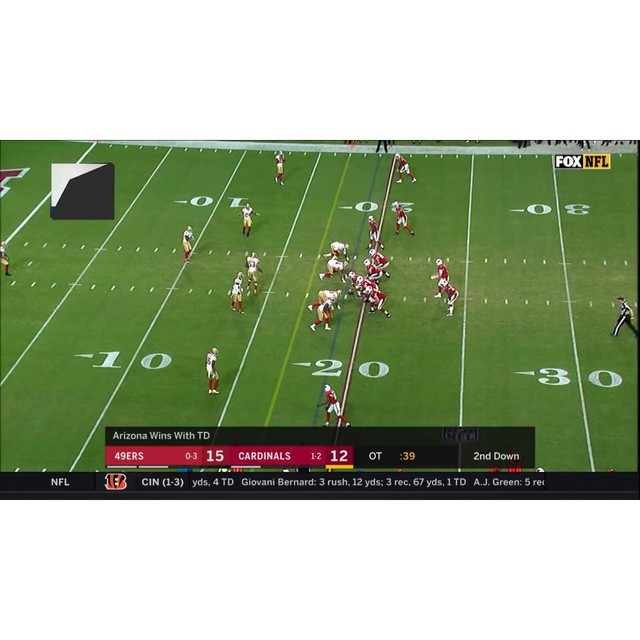american-football-player: (318, 384, 350, 426), (309, 294, 338, 331), (365, 286, 391, 319), (308, 288, 343, 312), (391, 201, 414, 237), (245, 251, 262, 296), (318, 258, 349, 282), (430, 258, 448, 299), (205, 346, 220, 395), (394, 153, 417, 184), (229, 271, 245, 313), (368, 248, 391, 277), (440, 280, 458, 316), (322, 240, 350, 263), (367, 215, 384, 251), (240, 202, 256, 236), (363, 259, 382, 284), (182, 224, 194, 262), (0, 240, 11, 276), (274, 150, 285, 186)
referee: (611, 294, 639, 340)
